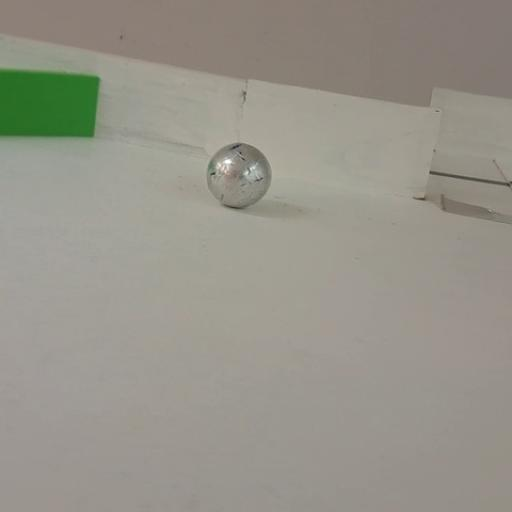alive: (202, 138, 276, 214)
